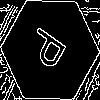P: (25, 25, 75, 77)
